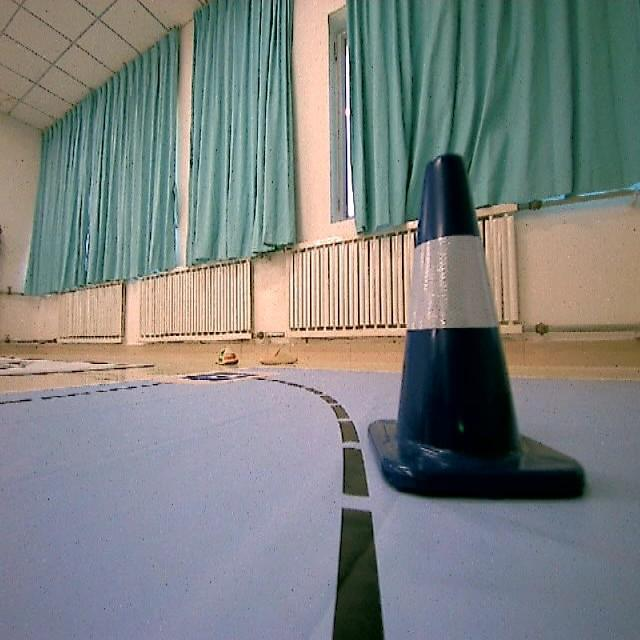obstacle: (351, 151, 595, 525)
